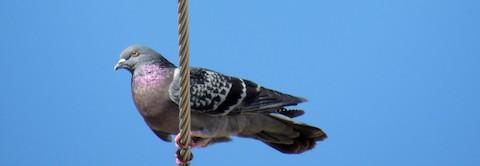pigeon: (112, 42, 331, 158)
